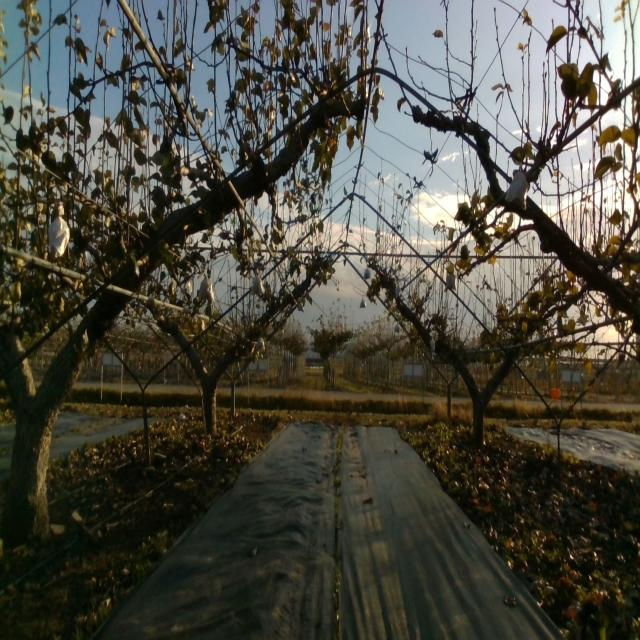pearbags: (47, 202, 71, 256), (504, 168, 530, 210), (198, 274, 216, 306), (249, 272, 265, 296), (444, 271, 457, 291)
